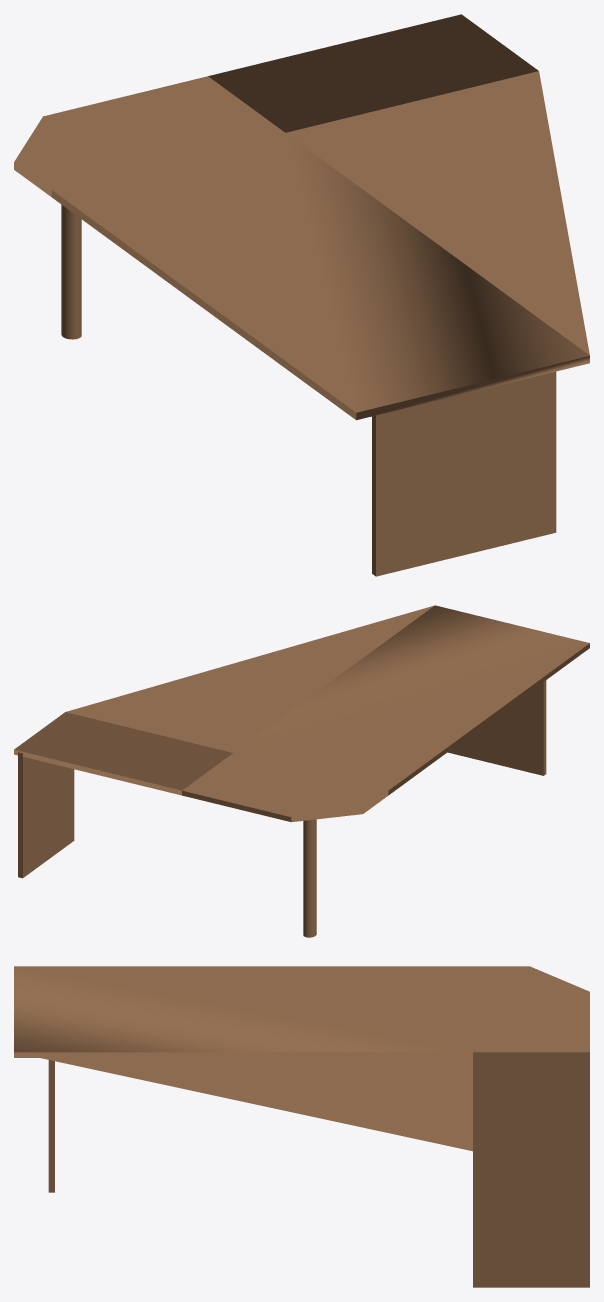
File: Tisch.fbx
3 views of the same model, one above another, from view 1: azimuth 30°, elevation 25°; view 2: azimuth 150°, elevation 25°; view 3: azimuth 270°, elevation 25° (orthographic). The views are drawn at different scales.
Parts seen in each view (by area): view 1: Würfel_1, Würfel, Zylinder; view 2: Würfel_1, Würfel_2, Würfel, Zylinder; view 3: Würfel_1, Würfel_2, Würfel.
Boxes of the visible parts, x1,y1,x2,y2 form: Würfel_1: (14,14,589,420); Würfel: (372,371,556,576); Zylinder: (61,204,81,339); Würfel_1: (14,605,589,822); Würfel_2: (18,752,74,878); Würfel: (447,680,546,775); Zylinder: (303,819,316,937); Würfel_1: (14,966,589,1151); Würfel_2: (473,1151,589,1287); Würfel: (48,1060,54,1192).
Bounding box in the file's own units: 541 × 210 × 734.
